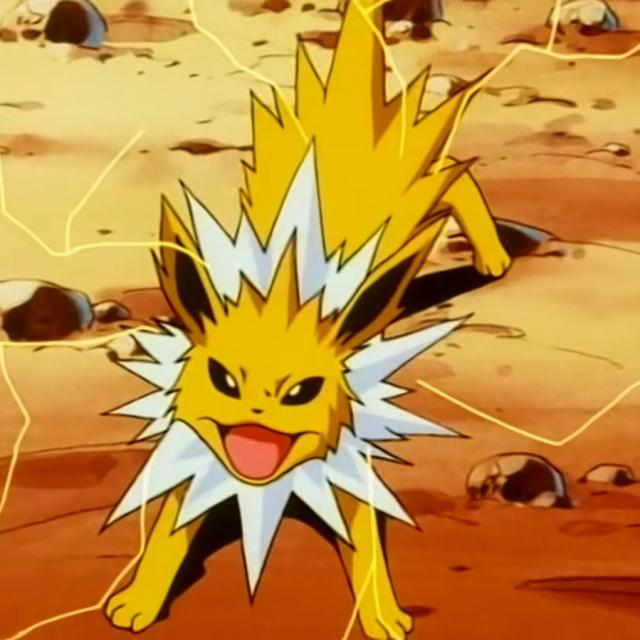Jolteon: (103, 101, 476, 634)
